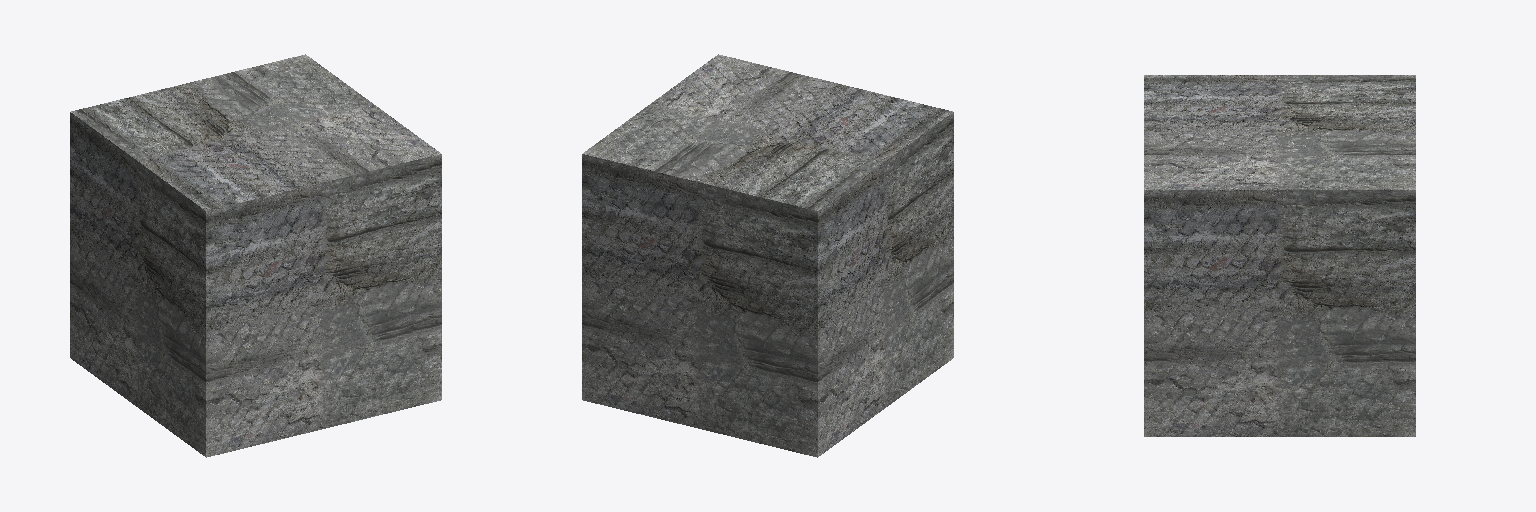
3 views of the same model, side by side, from view 1: azimuth 30°, elevation 25°; view 2: azimuth 150°, elevation 25°; view 3: azimuth 270°, elevation 25° (orthographic).
Visible parts, largest first — view 1: Cube; view 2: Cube; view 3: Cube.
Boxes of the visible parts, x1,y1,x2,y2 form: Cube: [70, 54, 441, 457]; Cube: [582, 54, 953, 457]; Cube: [1144, 75, 1415, 436].
Bounding box in the file's own units: 0.25 × 0.25 × 0.25.
Materials: 1 (1 with a texture image).